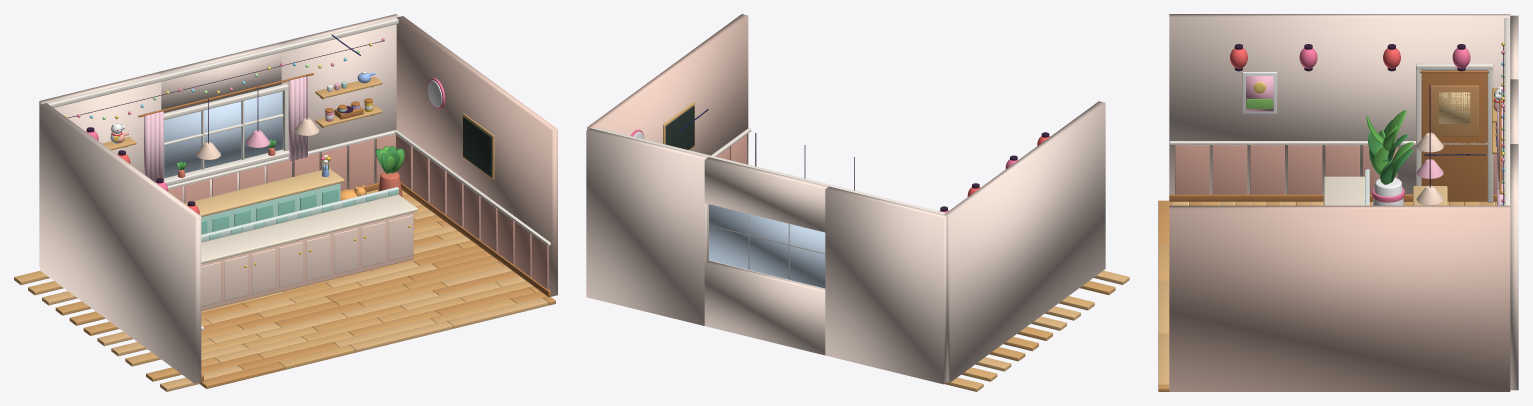
Rendered from cafe.glb.
3 views of the same model, side by side, from view 1: azimuth 30°, elevation 25°; view 2: azimuth 150°, elevation 25°; view 3: azimuth 270°, elevation 25° (orthographic). The views are drawn at different scales.
Parts seen in each view (by area): view 1: cafe_static, decor_fairy_lights_mesh; view 2: cafe_static; view 3: cafe_static, decor_big_plant_mesh, decor_poster_mesh, decor_lanterns_mesh, decor_fairy_lights_mesh.
Part boxes in pixels (x1=…): cafe_static: x1=14, y1=14, x2=557, y2=391; decor_fairy_lights_mesh: x1=65, y1=38, x2=384, y2=119; cafe_static: x1=586, y1=14, x2=1129, y2=391; cafe_static: x1=1158, y1=14, x2=1518, y2=391; decor_big_plant_mesh: x1=1366, y1=110, x2=1413, y2=205; decor_poster_mesh: x1=1242, y1=72, x2=1277, y2=113; decor_lanterns_mesh: x1=1230, y1=44, x2=1470, y2=71; decor_fairy_lights_mesh: x1=1501, y1=42, x2=1504, y2=205.
Size of the model in its own units: 7.12 by 3.13 by 5.18.
